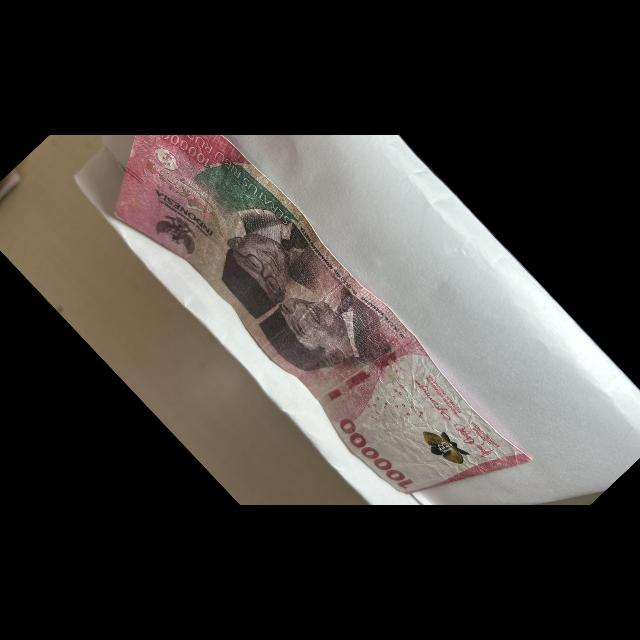Palsu-100k: (108, 114, 544, 559)
Tinta-Palsu-100k: (412, 418, 473, 476)
